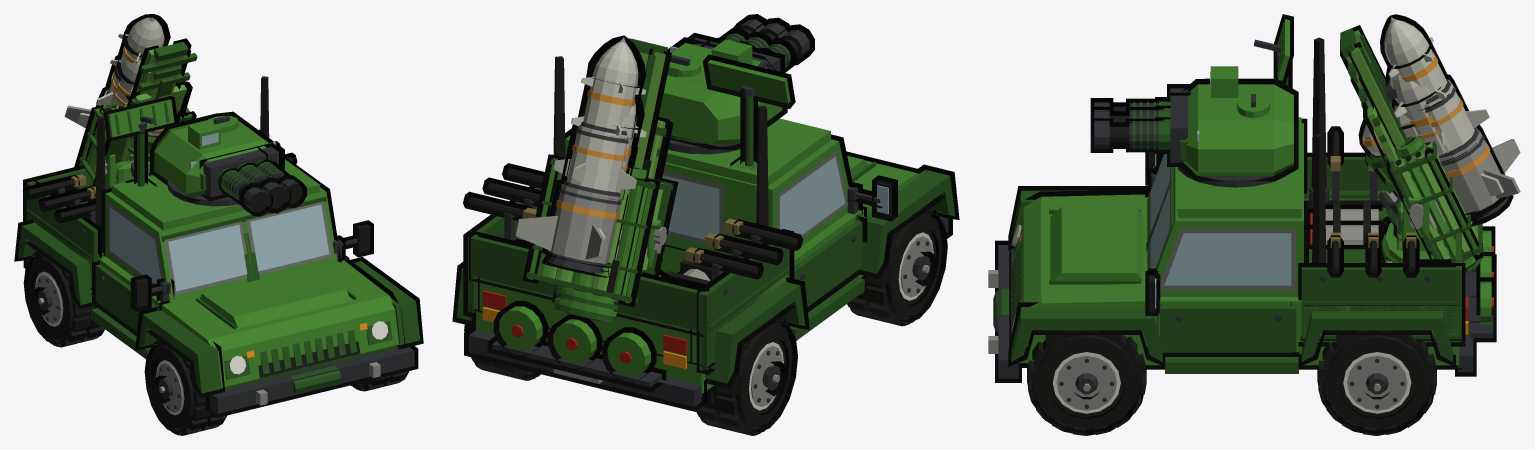
Rendered from jackal_jeep.glb.
The picture shows the model from 3 angles, left to right: view 1: azimuth 30°, elevation 25°; view 2: azimuth 150°, elevation 25°; view 3: azimuth 270°, elevation 25°; orthographic projection. The views are drawn at different scales.
Visible parts, largest first — view 1: Jeep_Hull, Jeep_Turret, Jeep_UpArmor, Jeep_Wheel_R2, Jeep_Wheel_R1, Jeep_UpTwin, Jeep_UpLoopholes, Jeep_UpRadarDish, Jeep_Gun, Jeep_StageMissile3Nose, Jeep_UpRadar, Jeep_GradSideRail-1 (+7 smaller); view 2: Jeep_Hull, Jeep_UpArmor, Jeep_UpMines, Jeep_UpLoopholes, Jeep_Turret, Jeep_Wheel_R2, Jeep_Wheel_R1, Jeep_StageMissile1, Jeep_UpRadarDish, Jeep_StageMissile2, Jeep_UpTwin, Jeep_StageMissile3 (+22 smaller); view 3: Jeep_Hull, Jeep_UpArmor, Jeep_Turret, Jeep_Wheel_L1, Jeep_Wheel_L2, Jeep_UpTwin, Jeep_UpLoopholes, Jeep_UpMines, Jeep_StageMissile1, Jeep_UpNitro, Jeep_StageMissile3Nose, Jeep_StageMissile2 (+20 smaller).
Part boxes in pixels (<box>): Jeep_Hull: <box>14,157,423,417</box>; Jeep_Turret: <box>150,111,284,202</box>; Jeep_UpArmor: <box>23,165,349,346</box>; Jeep_Wheel_R2: <box>23,250,104,347</box>; Jeep_Wheel_R1: <box>144,340,226,435</box>; Jeep_UpTwin: <box>199,143,306,216</box>; Jeep_UpLoopholes: <box>22,129,297,223</box>; Jeep_UpRadarDish: <box>103,96,178,140</box>; Jeep_Gun: <box>214,146,290,213</box>; Jeep_StageMissile3Nose: <box>122,14,170,57</box>; Jeep_UpRadar: <box>125,129,156,186</box>; Jeep_GradSideRail-1: <box>74,105,104,167</box>; Jeep_Hull: <box>452,118,959,411</box>; Jeep_UpArmor: <box>463,186,867,374</box>; Jeep_UpMines: <box>487,301,666,392</box>; Jeep_UpLoopholes: <box>463,163,803,280</box>; Jeep_Turret: <box>659,37,787,149</box>; Jeep_Wheel_R2: <box>696,316,797,435</box>; Jeep_Wheel_R1: <box>847,207,947,326</box>; Jeep_StageMissile1: <box>541,179,628,268</box>; Jeep_UpRadarDish: <box>703,54,795,108</box>; Jeep_StageMissile2: <box>559,124,636,200</box>; Jeep_UpTwin: <box>687,14,814,72</box>; Jeep_StageMissile3: <box>576,70,643,139</box>; Jeep_Hull: <box>988,117,1476,382</box>; Jeep_UpArmor: <box>1160,152,1465,356</box>; Jeep_Turret: <box>1180,66,1298,181</box>; Jeep_Wheel_L1: <box>1027,330,1146,435</box>; Jeep_Wheel_L2: <box>1317,330,1436,435</box>; Jeep_UpTwin: <box>1090,84,1190,166</box>; Jeep_UpLoopholes: <box>1327,126,1419,277</box>; Jeep_UpMines: <box>1470,226,1496,342</box>; Jeep_StageMissile1: <box>1439,124,1507,218</box>; Jeep_UpNitro: <box>1307,200,1382,244</box>; Jeep_StageMissile3Nose: <box>1380,14,1432,68</box>; Jeep_StageMissile2: <box>1424,74,1479,162</box>.
Size of the model in its own units: 2.61 by 3.12 by 4.22.
